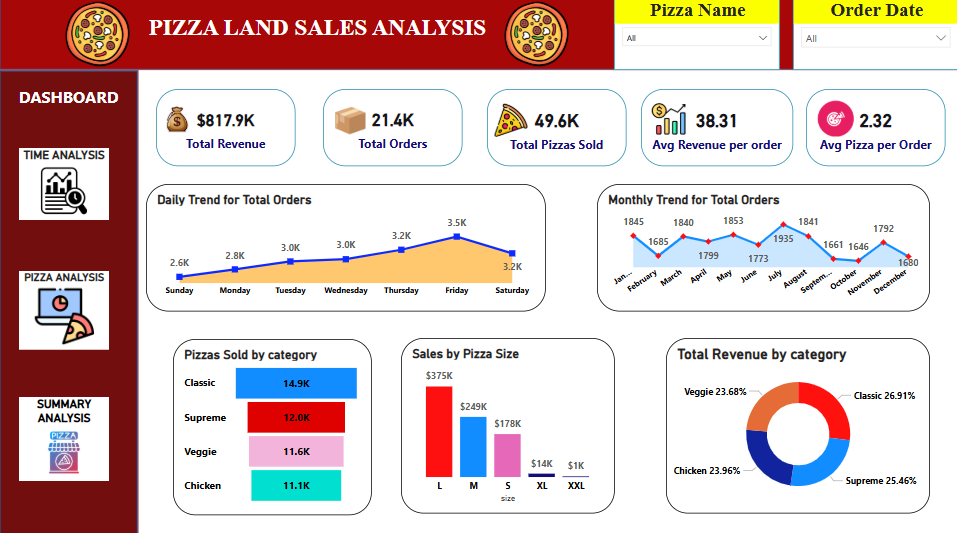

The page's visual inventory and layout, read from the dashboard file:
{"tool":"powerbi","page":{"name":"Main","canvas":[1280,720],"ordinal":0},"visuals":[{"type":"shape","box":[0,0,1279.8,96.4],"z":0},{"type":"textbox","title":"PIZZA LAND SALES ANALYSIS","box":[194.2,22.7,535.7,62.4],"z":1000},{"type":"card","title":"Total Revenue","fields":{"Values":["Orders.Total Revenue"]},"box":[209.8,121.9,185.7,103.5],"z":2000},{"type":"slicer","title":"Pizza Name","fields":{"Values":["pizza_types.name"]},"box":[820.6,0,221.1,96.4],"z":3000},{"type":"slicer","title":"Order Date","fields":{"Values":["Orders.date"]},"box":[1058.7,0,221.1,96.4],"z":4000},{"type":"shape","box":[0,96.3,185.8,623.5],"z":5000},{"type":"columnChart","title":"Sales by Pizza Size","fields":{"Category":["pizzas.size"],"Y":["Orders.Total Revenue"]},"box":[535.9,454,285.2,234.4],"z":6000},{"type":"card","title":"Total Revenue","fields":{"Values":["Sum(order_details.quantity)"]},"box":[650.6,121.9,185.7,103.5],"z":7000},{"type":"card","title":"Total Revenue","fields":{"Values":["CountNonNull(Orders.order_id)"]},"box":[432.3,121.9,185.7,103.5],"z":8000},{"type":"card","title":"Total Revenue","fields":{"Values":["Orders.Avg Revenue per order"]},"box":[856.1,121.9,202.7,103.5],"z":9000},{"type":"funnel","title":"Pizzas Sold by category","fields":{"Category":["pizza_types.category"],"Y":["Sum(order_details.quantity)"]},"box":[232.4,455,265,235.3],"z":10000},{"type":"areaChart","title":"Daily Trend for Total Orders","fields":{"Category":["Orders.DayName"],"Y":["Orders.total orders2"]},"box":[195.6,248,532.9,170.1],"z":11000},{"type":"lineChart","title":"Monthly Trend for Total Orders","fields":{"Category":["Orders.Month_Name"],"Y":["Orders.total orders2"]},"box":[798,248,443.6,170.1],"z":12000},{"type":"card","title":"Total Revenue","fields":{"Values":["Orders.Avg Pizza per Order"]},"box":[1075.7,121.9,185.7,103.5],"z":13000},{"type":"donutChart","fields":{"Y":["Orders.Total Revenue"],"Category":["pizza_types.category"]},"box":[889.9,454,352.4,234.4],"z":14000},{"type":"image","box":[80.8,0,99.2,96.4],"z":15000},{"type":"image","box":[666.1,0,99.2,96.4],"z":16000},{"type":"image","title":"TIME ANALYSIS","box":[26.9,199.8,120.5,96.4],"z":17000},{"type":"image","title":"PIZZA ANALYSIS","box":[26.9,364.3,120.5,104.9],"z":18000},{"type":"textbox","box":[0,112,185.7,48.2],"z":19000},{"type":"image","title":"SUMMARY ANALYSIS","box":[26.9,531.5,120.5,112],"z":20000},{"type":"image","box":[209.2,135.5,56.6,51.3],"z":21000},{"type":"image","box":[439.5,139.5,57.9,47.4],"z":22000},{"type":"image","box":[651.3,135.5,64.5,53.9],"z":23000},{"type":"image","box":[865.8,130.3,55.3,60.5],"z":24000},{"type":"image","box":[1086.8,130.3,57.9,60.5],"z":25000}]}

Visuals, with their boxes in screenshot pixels (x1, y1, x2, y2), scaled from the page's 1280x720 canvas onto the 957x533 screenshot:
shape: [0, 0, 956, 71]
"PIZZA LAND SALES ANALYSIS" textbox: [145, 17, 546, 63]
"Total Revenue" card: [157, 90, 296, 167]
"Pizza Name" slicer: [614, 0, 779, 71]
"Order Date" slicer: [792, 0, 956, 71]
shape: [0, 71, 139, 532]
"Sales by Pizza Size" columnChart: [401, 336, 614, 510]
"Total Revenue" card: [486, 90, 625, 167]
"Total Revenue" card: [323, 90, 462, 167]
"Total Revenue" card: [640, 90, 792, 167]
"Pizzas Sold by category" funnel: [174, 337, 372, 511]
"Daily Trend for Total Orders" areaChart: [146, 184, 545, 310]
"Monthly Trend for Total Orders" lineChart: [597, 184, 928, 310]
"Total Revenue" card: [804, 90, 943, 167]
donutChart - Orders.Total Revenue x pizza_types.category: [665, 336, 929, 510]
image: [60, 0, 135, 71]
image: [498, 0, 572, 71]
"TIME ANALYSIS" image: [20, 148, 110, 219]
"PIZZA ANALYSIS" image: [20, 270, 110, 347]
textbox: [0, 83, 139, 119]
"SUMMARY ANALYSIS" image: [20, 393, 110, 476]
image: [156, 100, 199, 138]
image: [329, 103, 372, 138]
image: [487, 100, 535, 140]
image: [647, 96, 689, 141]
image: [813, 96, 856, 141]
